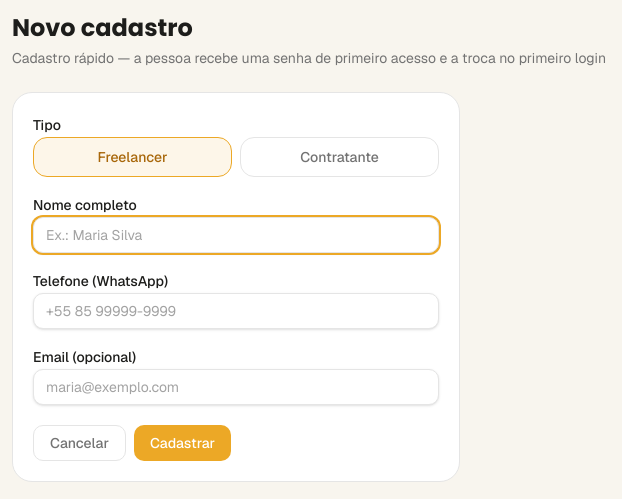
Test: Novo cadastro (consultor) — Freela em Casa encerrado › sem a senha na resposta: diz que foi no convite, sem inventar 'Mudar@123'
The width and height of the screenshot is (622, 499).
Type "Maria" into the field labelled "Nome completo" at [236, 235], box [33,217,439,253]
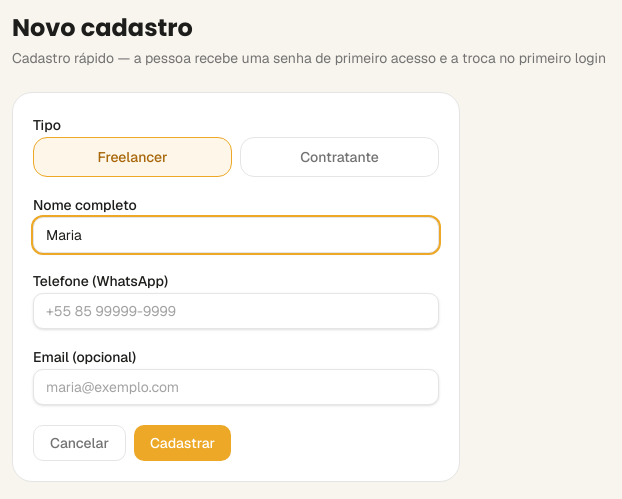
Type "85 99999-7777" into the field labelled "Telefone (WhatsApp)" at [236, 311], box [33,293,439,329]
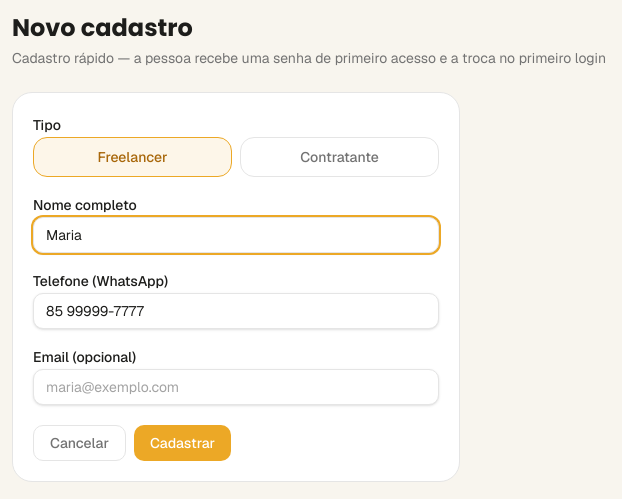
Click the button "Cadastrar" at [182, 443], box [134,425,231,461]
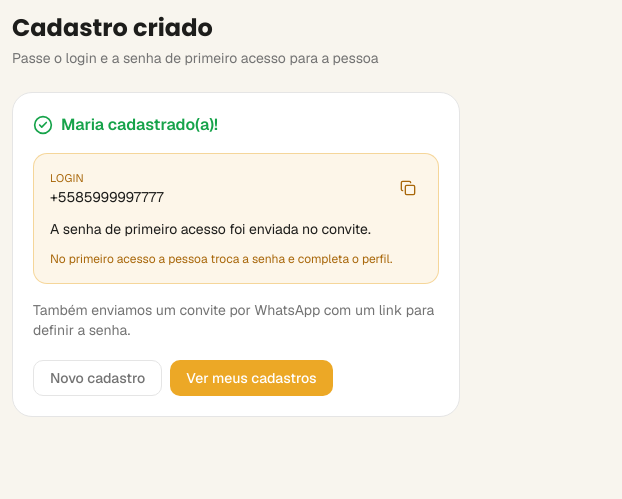
Expected: the text "A senha de primeiro acesso foi enviada no convite." is shown, [50,218,422,238]
